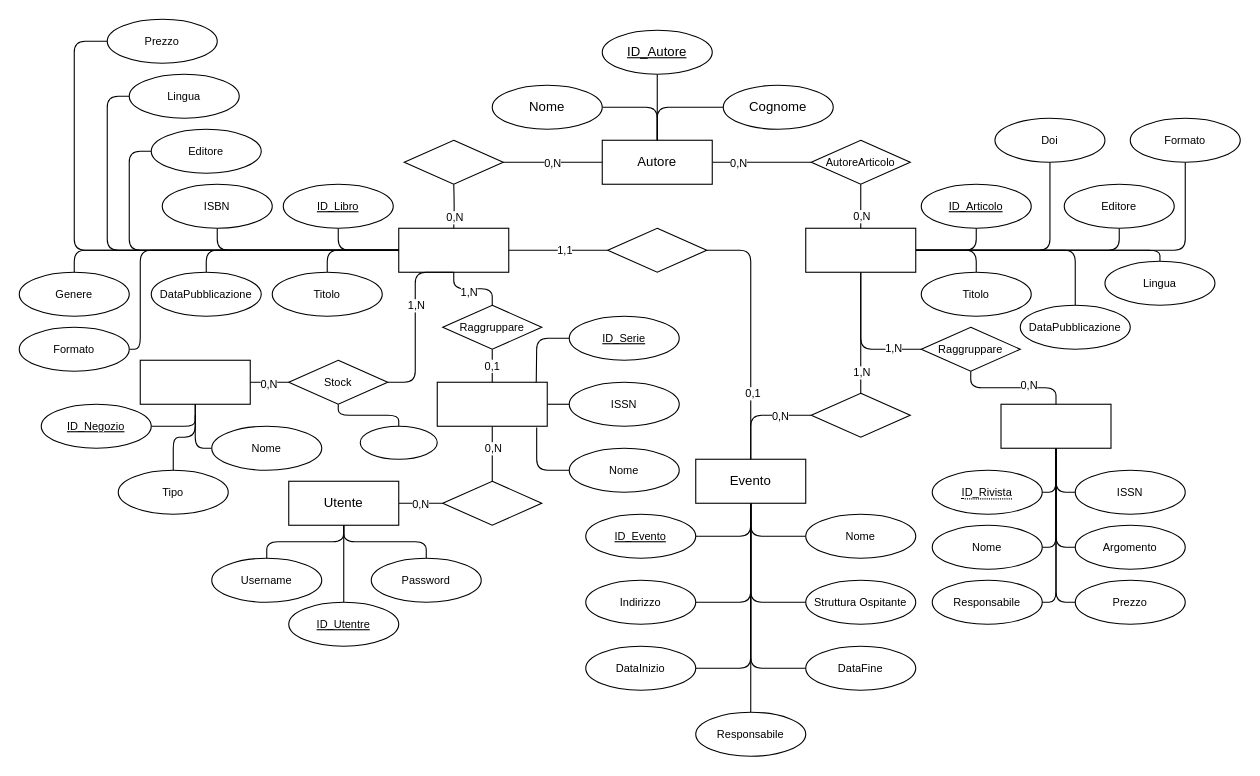
Some shapes in this 1260 by 776 pixel diagram are drawn without their labels. Here are the shapes that lost their labels. From the top down, the centre of each, then its label:
At [453,161]: "AutoreLibro".
At [453,249]: "Libri".
At [657,249]: "Presentazione".
At [860,249]: "Articoli".
At [194,381]: "Negozio".
At [491,403]: "Serie".
At [860,414]: "Conferenza".
At [398,442]: "Quantità".
At [1055,425]: "Riviste".
At [492,502]: "Richiesta".
